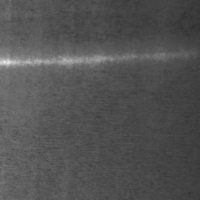scratches: (0, 53, 194, 70)
